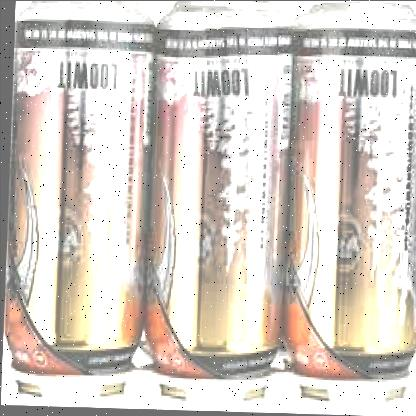Can: (139, 0, 291, 412), (0, 1, 150, 410), (276, 0, 416, 416)
